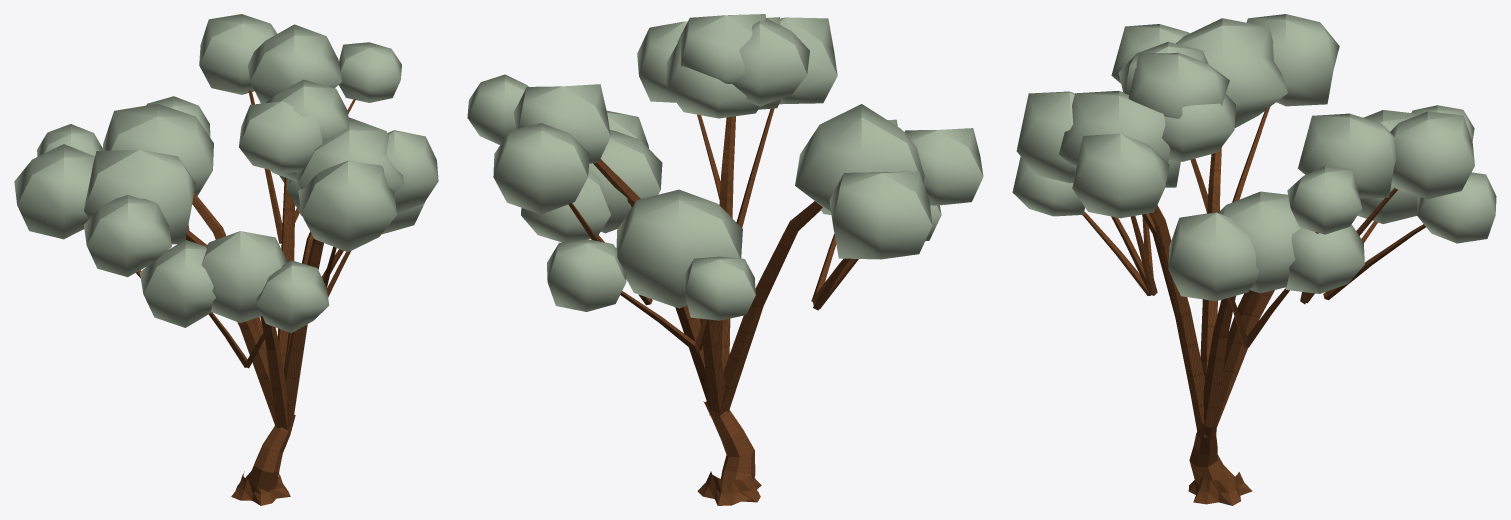
The model's file is sycamore-old.glb.
The picture shows the model from 3 angles, left to right: view 1: azimuth 30°, elevation 25°; view 2: azimuth 150°, elevation 25°; view 3: azimuth 270°, elevation 25°; orthographic projection. The views are drawn at different scales.
Parts seen in each view (by area): view 1: sycamore-old; view 2: sycamore-old; view 3: sycamore-old.
Part boxes in pixels (x1,y1,x2,y2): sycamore-old: (14, 14, 438, 505); sycamore-old: (467, 14, 983, 505); sycamore-old: (1012, 14, 1496, 505).
Size of the model in its own units: 17.44 by 17.21 by 16.67.
Materials: 2 (1 with a texture image).
